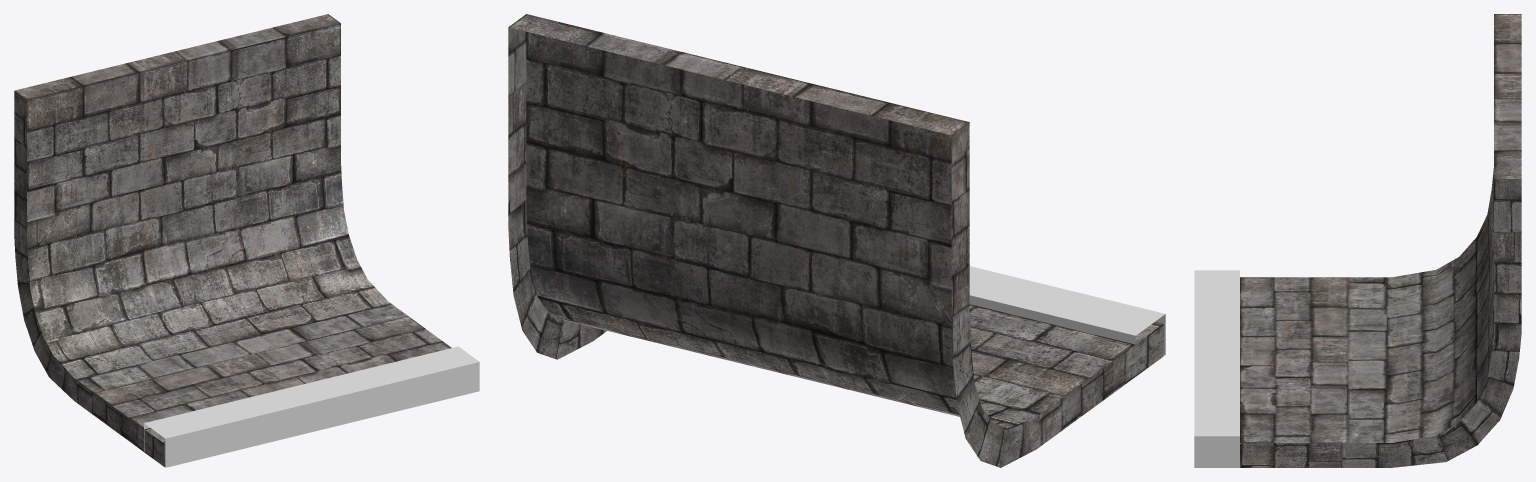
File: CurvedWall_01_Fix (1).fbx
The picture shows the model from 3 angles, left to right: view 1: azimuth 30°, elevation 25°; view 2: azimuth 150°, elevation 25°; view 3: azimuth 270°, elevation 25°; orthographic projection. The views are drawn at different scales.
Visible parts, largest first — view 1: CurvedWall_01_Fix; view 2: CurvedWall_01_Fix; view 3: CurvedWall_01_Fix.
Part boxes in pixels (box(x1,y1,x2,y2)): CurvedWall_01_Fix: box(14, 14, 479, 467); CurvedWall_01_Fix: box(508, 14, 1165, 467); CurvedWall_01_Fix: box(1194, 14, 1521, 467).
Bounding box in the file's own units: 547 × 443 × 456.
